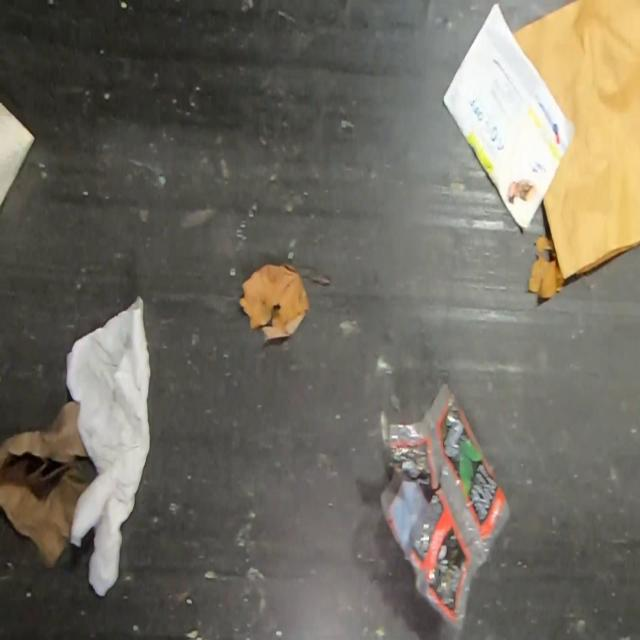soft_plastic: (375, 382, 512, 630)
